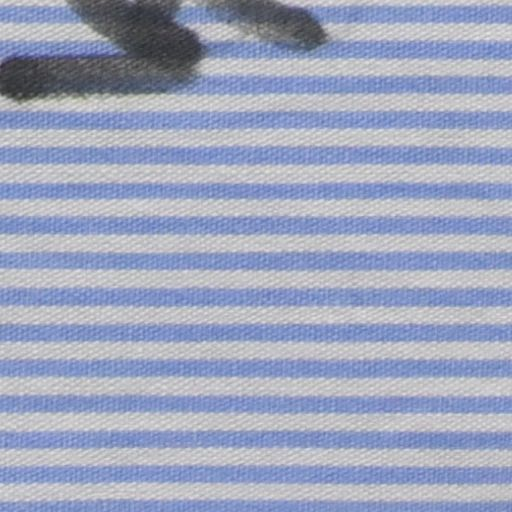defect: (1, 1, 314, 97)
